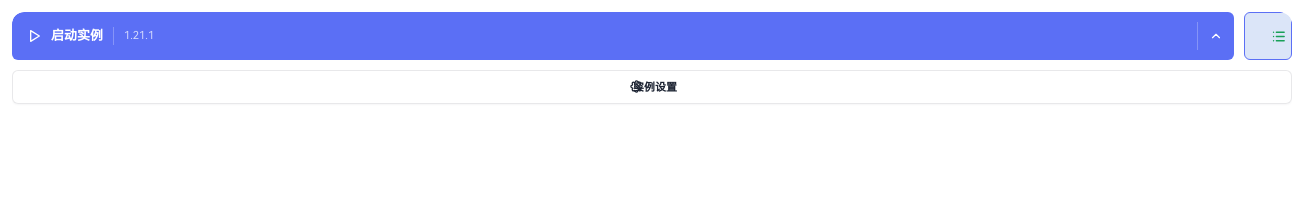
Test: GameLaunchBar › 最近实例超过 5 个时以两列展示
Click the button with class "split-arrow": (1216, 36) [1198,12,1234,60]
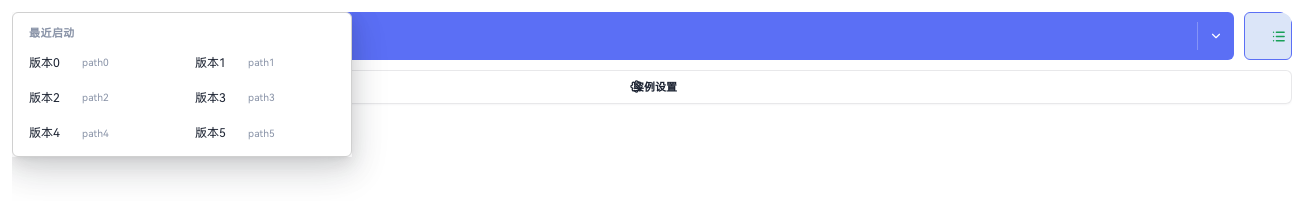
Expected: the number of buttons with class "recent-instance-item" is 6, [19,47,179,80]; [185,47,345,80]; [19,82,179,115]; [185,82,345,115]; [19,117,179,150]; [185,117,345,150]
